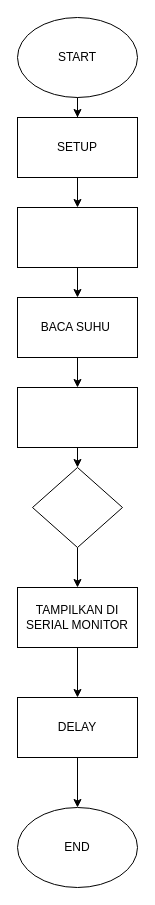
The diagram is 155 pixels wide and 905 high, and some of its shapes have lost their labels. The box of each missing label's shape, as (x1, y1, x2, y2) in pixels:
BACA KELEMBABAN: (16, 386, 138, 448)
CHECK ERROR YES/NO: (32, 466, 122, 548)
LOOP: (16, 206, 138, 268)
